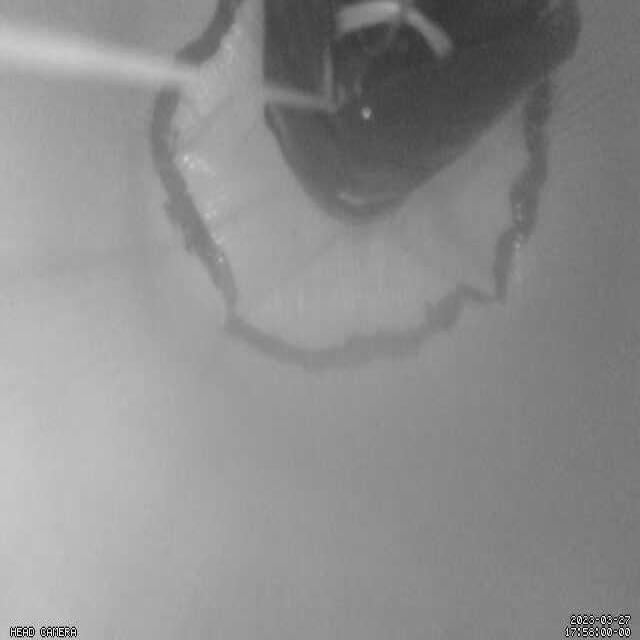red-circle: (147, 0, 555, 370)
